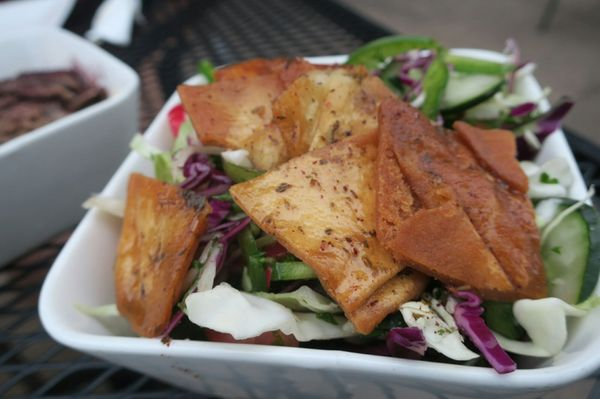soup: (375, 96, 548, 301), (114, 173, 211, 337)
sushi: (0, 24, 142, 272)
